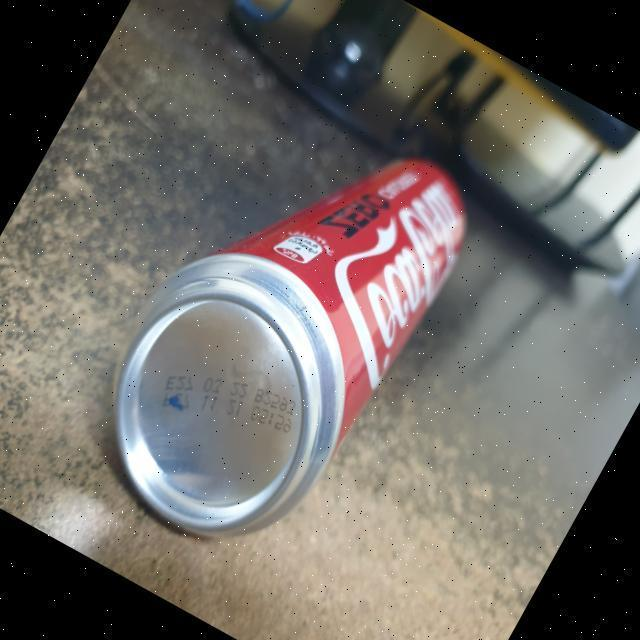can: (47, 64, 498, 586)
